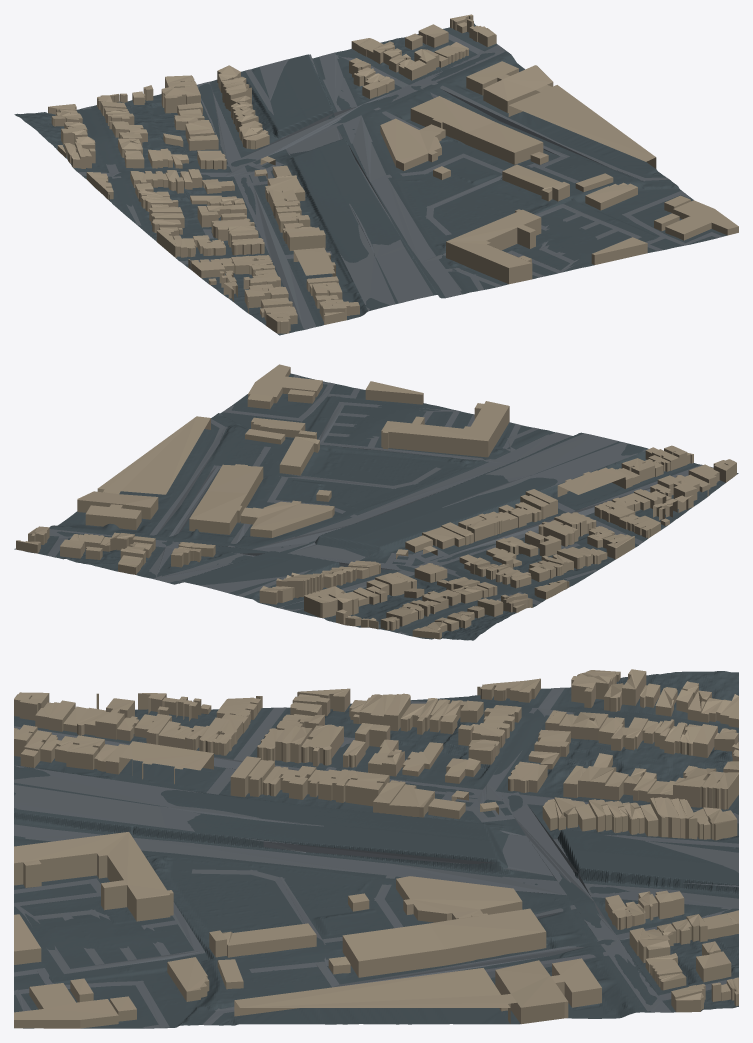
Rendered from epsg26910-1439-10873.lod0.glb.
The picture shows the model from 3 angles, top to bottom: view 1: azimuth 30°, elevation 25°; view 2: azimuth 150°, elevation 25°; view 3: azimuth 270°, elevation 25°; orthographic projection. The views are drawn at different scales.
Parts seen in each view (by area): view 1: epsg26910-1439-10873-lod0; view 2: epsg26910-1439-10873-lod0; view 3: epsg26910-1439-10873-lod0.
Boxes of the visible parts, x1=… form: epsg26910-1439-10873-lod0: x1=14, y1=14, x2=738, y2=335; epsg26910-1439-10873-lod0: x1=14, y1=364, x2=738, y2=640; epsg26910-1439-10873-lod0: x1=14, y1=669, x2=738, y2=1028.
Bounding box in the file's own units: 384 × 35.1 × 384.
